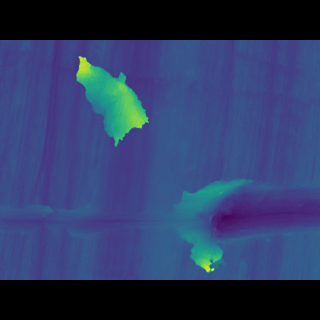Loch: (0, 170, 320, 244), (70, 87, 156, 146)
